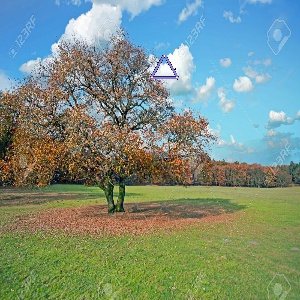triangle: (150, 51, 181, 82)
